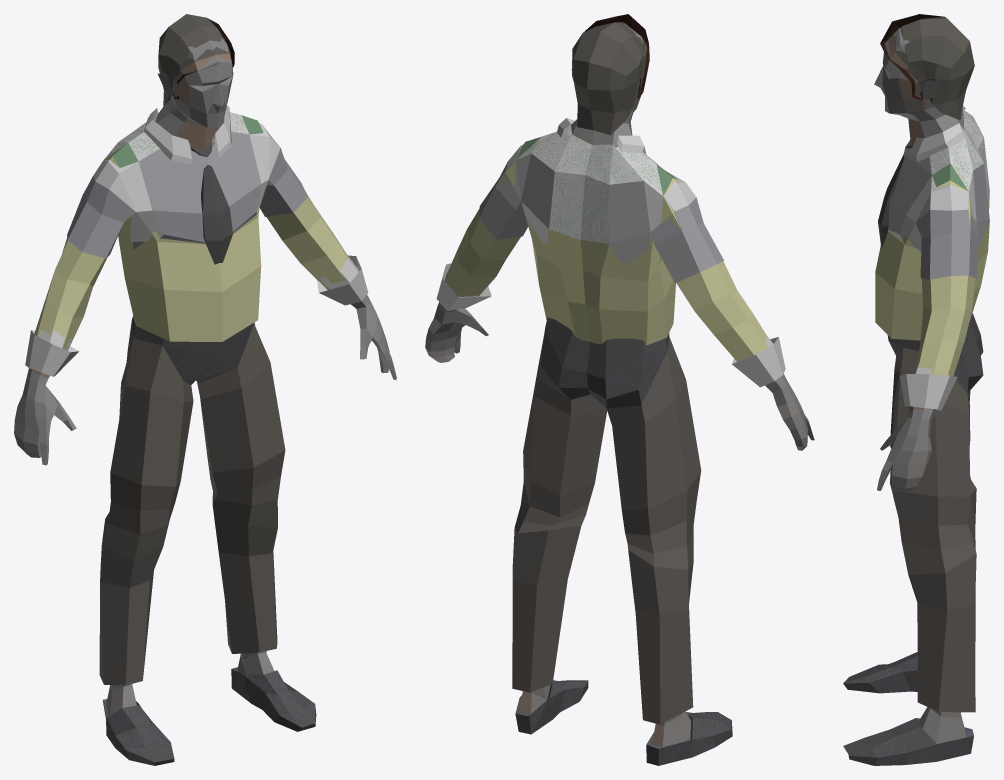
File: PEOPLE.fbx
3 views of the same model, side by side, from view 1: azimuth 30°, elevation 25°; view 2: azimuth 150°, elevation 25°; view 3: azimuth 270°, elevation 25° (orthographic).
Visible parts, largest first — view 1: Husband 30s.001, Business man, Male Customer.001, Husband 30s; view 2: Husband 30s.001, Business man, Male Customer.001, Husband 30s; view 3: Husband 30s.001, Business man, Male Customer.001, Husband 30s.
Part boxes in pixels (x1=…): Husband 30s.001: x1=32, y1=14, x2=365, y2=685; Business man: x1=14, y1=38, x2=396, y2=765; Male Customer.001: x1=26, y1=124, x2=369, y2=701; Husband 30s: x1=14, y1=18, x2=389, y2=765; Husband 30s.001: x1=445, y1=22, x2=781, y2=724; Business man: x1=425, y1=23, x2=814, y2=765; Male Customer.001: x1=438, y1=138, x2=787, y2=764; Husband 30s: x1=426, y1=14, x2=807, y2=764; Husband 30s.001: x1=875, y1=16, x2=989, y2=712; Business man: x1=843, y1=28, x2=989, y2=765; Male Customer.001: x1=887, y1=120, x2=989, y2=736; Husband 30s: x1=844, y1=14, x2=989, y2=764.
Size of the model in its own units: 196 by 354 by 66.88.
